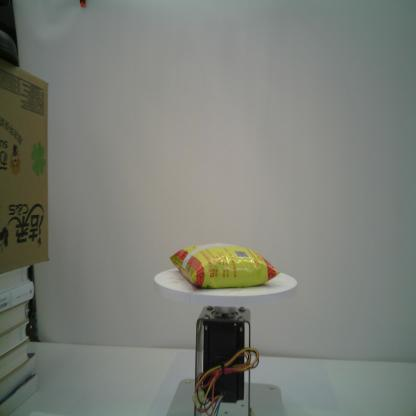Seasoner: (170, 242, 281, 290)
